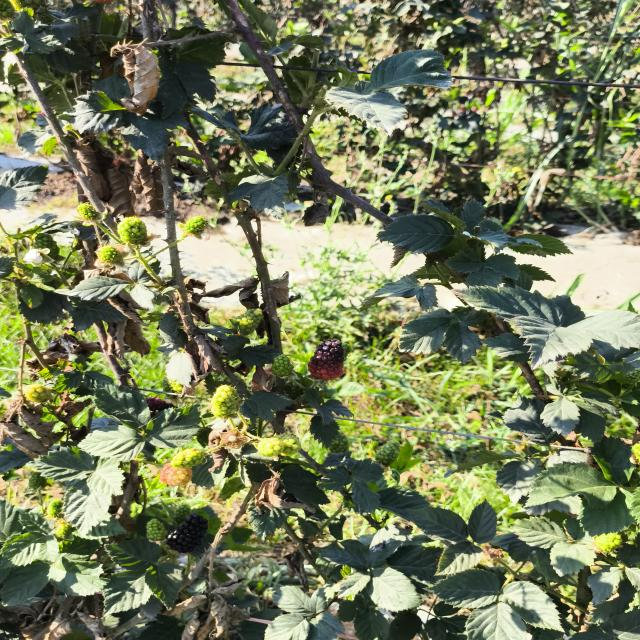maduro: (166, 513, 207, 553)
marron: (308, 338, 344, 380)
naranja: (159, 464, 192, 486)
verde: (256, 434, 299, 458), (212, 385, 240, 418), (118, 217, 147, 246), (234, 308, 262, 336), (171, 448, 206, 469), (180, 216, 208, 238), (376, 440, 400, 465), (272, 354, 293, 377), (146, 518, 166, 540), (98, 245, 121, 264), (77, 202, 98, 220), (175, 503, 190, 523)
